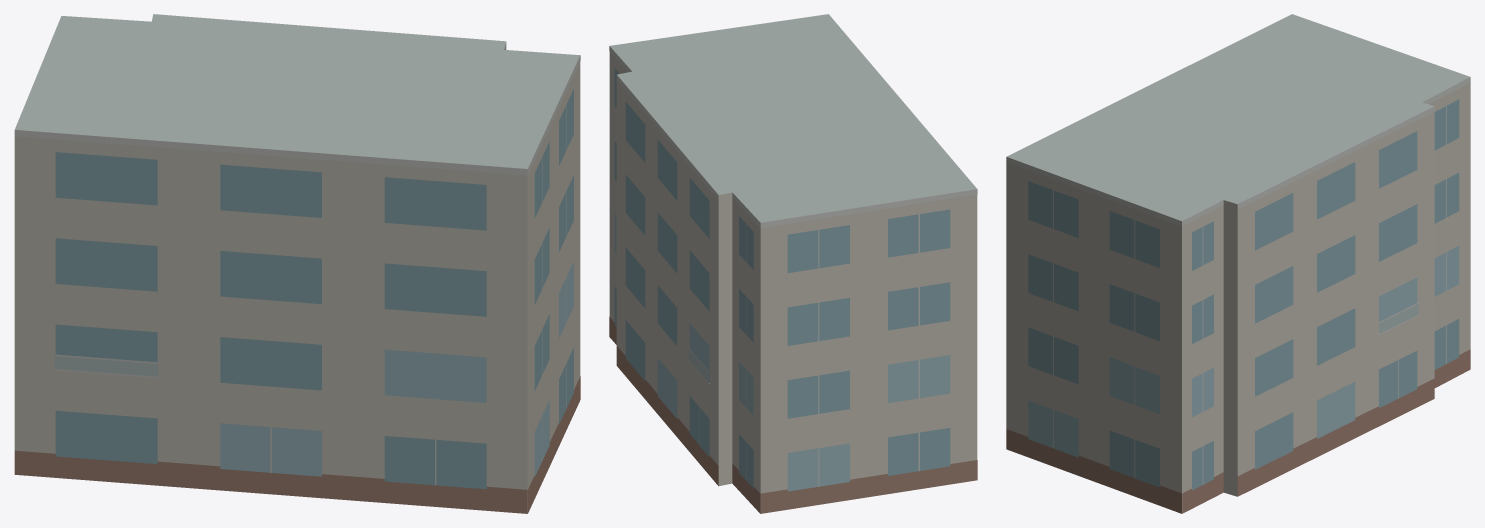
The model's file is survey-upis-32941113.glb.
3 views of the same model, side by side, from view 1: azimuth 30°, elevation 25°; view 2: azimuth 150°, elevation 25°; view 3: azimuth 270°, elevation 25° (orthographic). The views are drawn at different scales.
Visible parts, largest first — view 1: survey-upis-32941113.tmp; view 2: survey-upis-32941113.tmp; view 3: survey-upis-32941113.tmp.
Part boxes in pixels (left/top/right/bottom): survey-upis-32941113.tmp: left=14, top=14, right=580, bottom=513; survey-upis-32941113.tmp: left=609, top=14, right=977, bottom=513; survey-upis-32941113.tmp: left=1006, top=14, right=1470, bottom=513.
Bounding box in the file's own units: 20.07 × 13.2 × 18.99.
